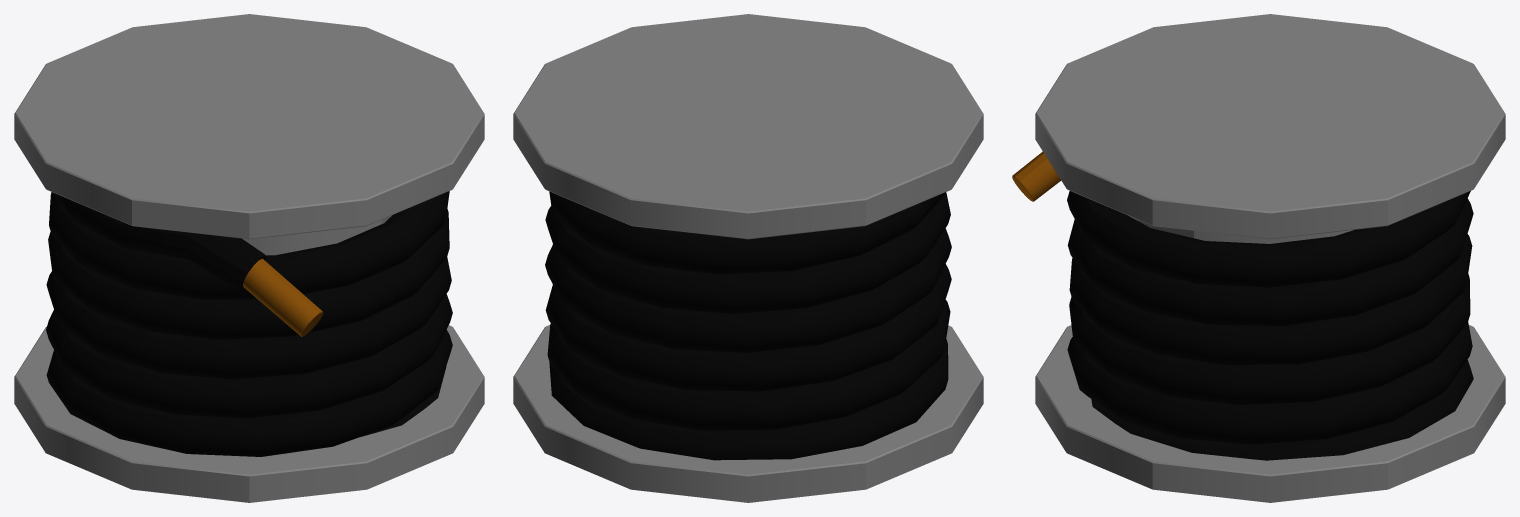
Rendered from Cable_Roll.fbx.
3 views of the same model, side by side, from view 1: azimuth 30°, elevation 25°; view 2: azimuth 150°, elevation 25°; view 3: azimuth 270°, elevation 25° (orthographic).
Visible parts, largest first — view 1: Cable_Roll; view 2: Cable_Roll; view 3: Cable_Roll.
Boxes of the visible parts, left/top/right/bottom form: Cable_Roll: left=14, top=14, right=484, bottom=502; Cable_Roll: left=513, top=14, right=983, bottom=502; Cable_Roll: left=1012, top=14, right=1505, bottom=502.
Size of the model in its own units: 0.88 by 0.9227 by 0.6132.
